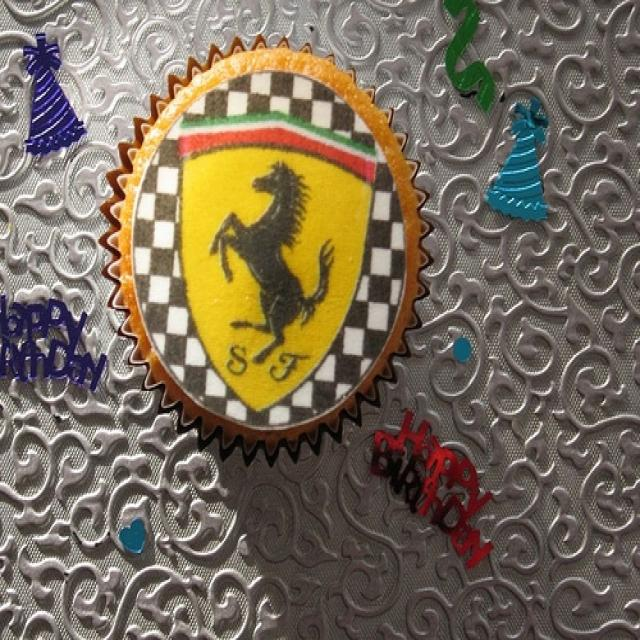ferrari: (173, 112, 376, 416)
